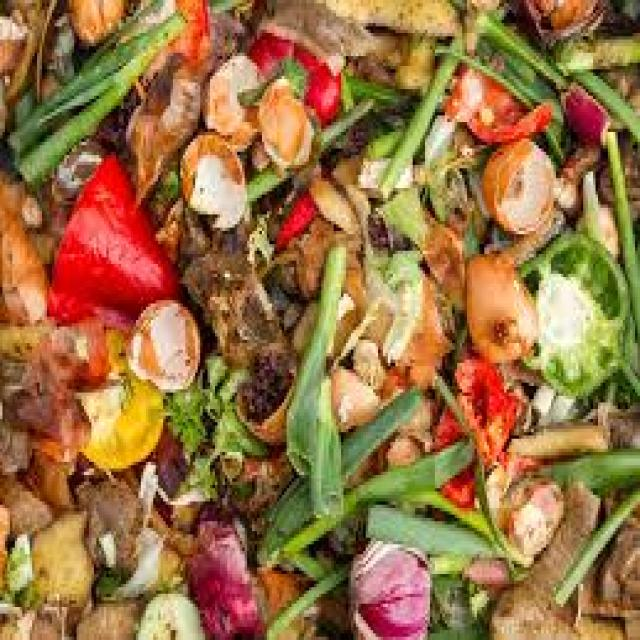Wet: (0, 0, 640, 640), (37, 122, 189, 396)
